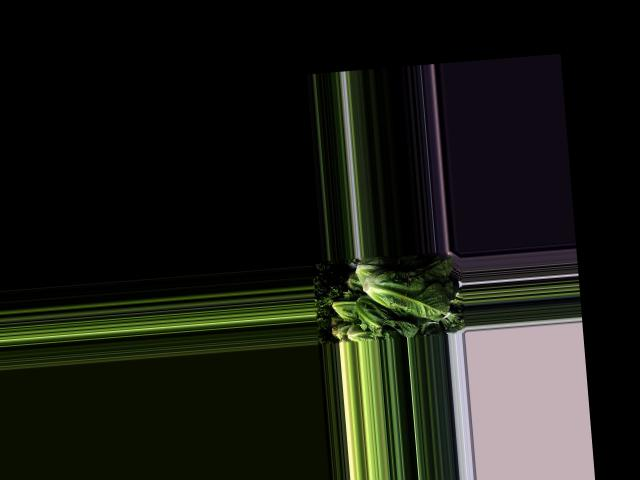lettuce: (352, 292, 421, 338)
